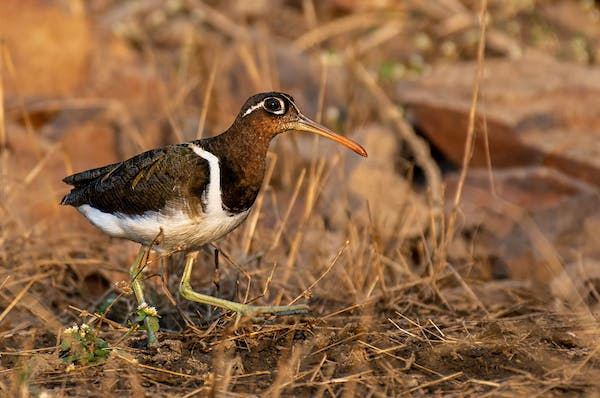Walking: (50, 49, 423, 350)
